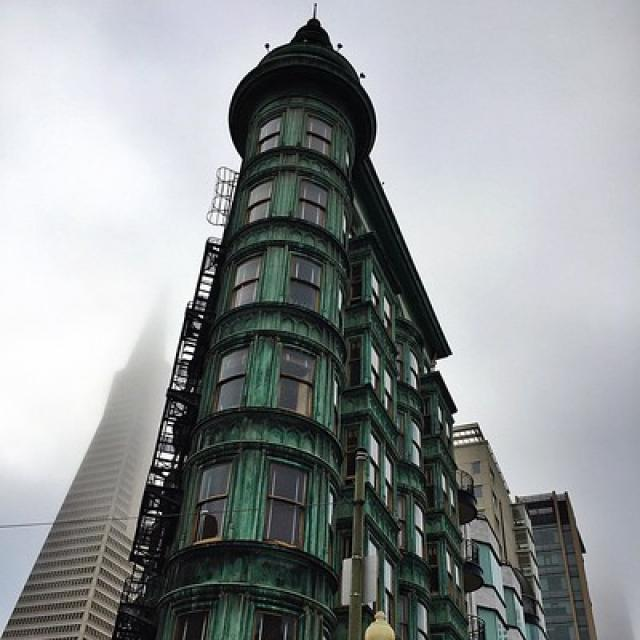Normal_building: (107, 22, 459, 640)
